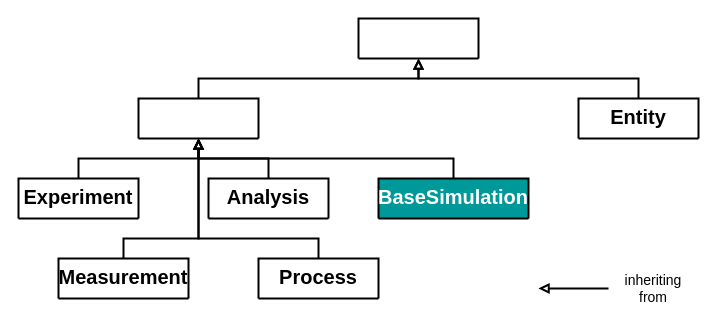
This 716x321 diagram has some shape labels left out. The box of each missing label's shape, as (x1, y1, x2, y2) in pixels:
Activity: (137, 97, 259, 139)
BaseSection: (357, 17, 479, 59)
